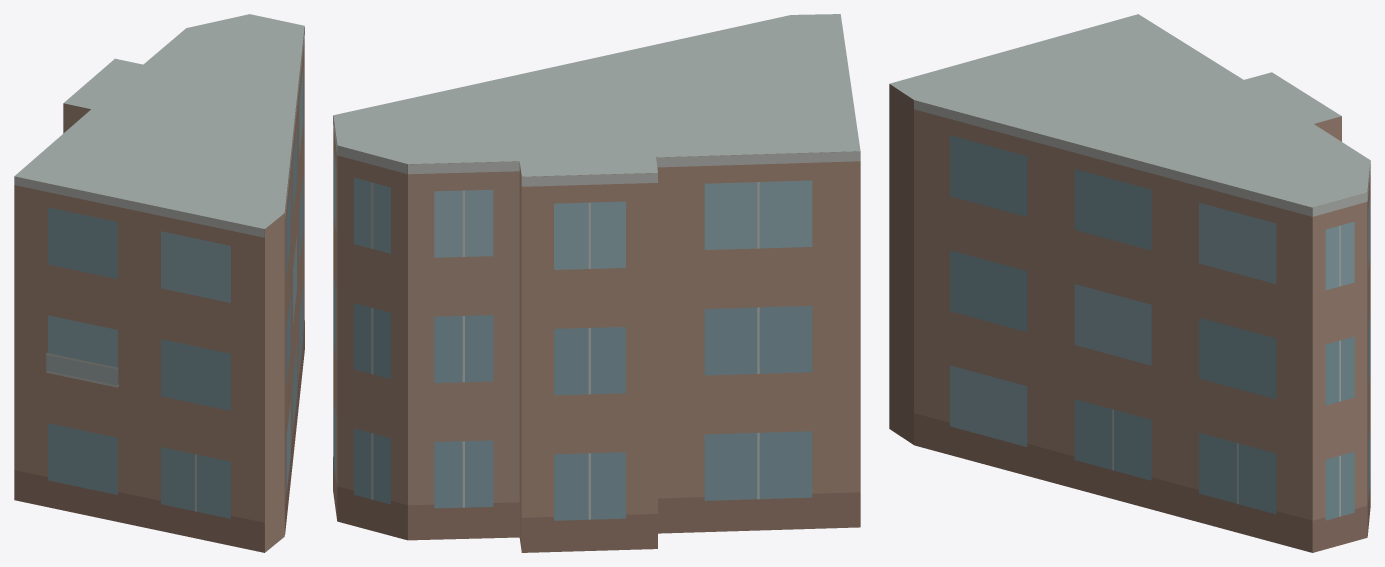
Rendered from survey-upis-32492856.glb.
3 views of the same model, side by side, from view 1: azimuth 30°, elevation 25°; view 2: azimuth 150°, elevation 25°; view 3: azimuth 270°, elevation 25° (orthographic). The views are drawn at different scales.
Visible parts, largest first — view 1: survey-upis-32492856.tmp; view 2: survey-upis-32492856.tmp; view 3: survey-upis-32492856.tmp.
Boxes of the visible parts, <box> form: survey-upis-32492856.tmp: <box>14,14,304,552</box>; survey-upis-32492856.tmp: <box>333,14,860,552</box>; survey-upis-32492856.tmp: <box>889,14,1370,552</box>.
Size of the model in its own units: 10.96 by 9.1 by 11.51.
